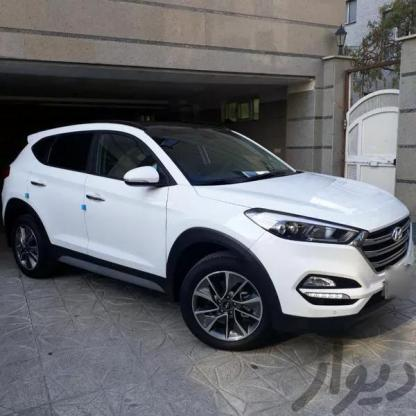Car: (0, 113, 416, 370)
